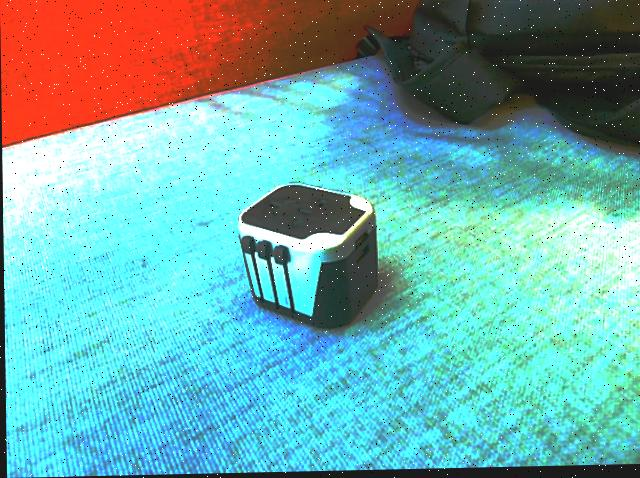adapter: (234, 183, 378, 332)
